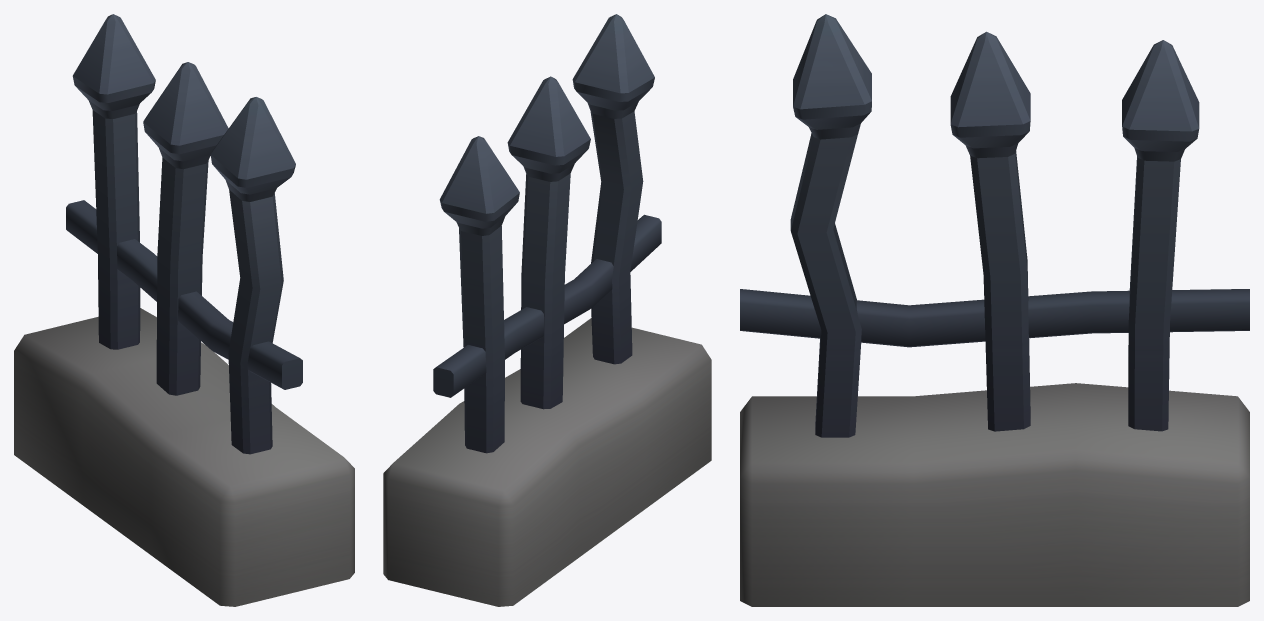
File: Fence_3_1.glb
3 views of the same model, side by side, from view 1: azimuth 30°, elevation 25°; view 2: azimuth 150°, elevation 25°; view 3: azimuth 270°, elevation 25° (orthographic). The views are drawn at different scales.
Parts seen in each view (by area): view 1: Fence_3_1; view 2: Fence_3_1; view 3: Fence_3_1.
Part boxes in pixels (bbox=[...]): Fence_3_1: bbox=[14, 14, 354, 606]; Fence_3_1: bbox=[383, 14, 711, 606]; Fence_3_1: bbox=[740, 14, 1249, 606].
Size of the model in its own units: 0.3513 by 1.17 by 0.9745.
Materials: 2 (2 with a texture image).
